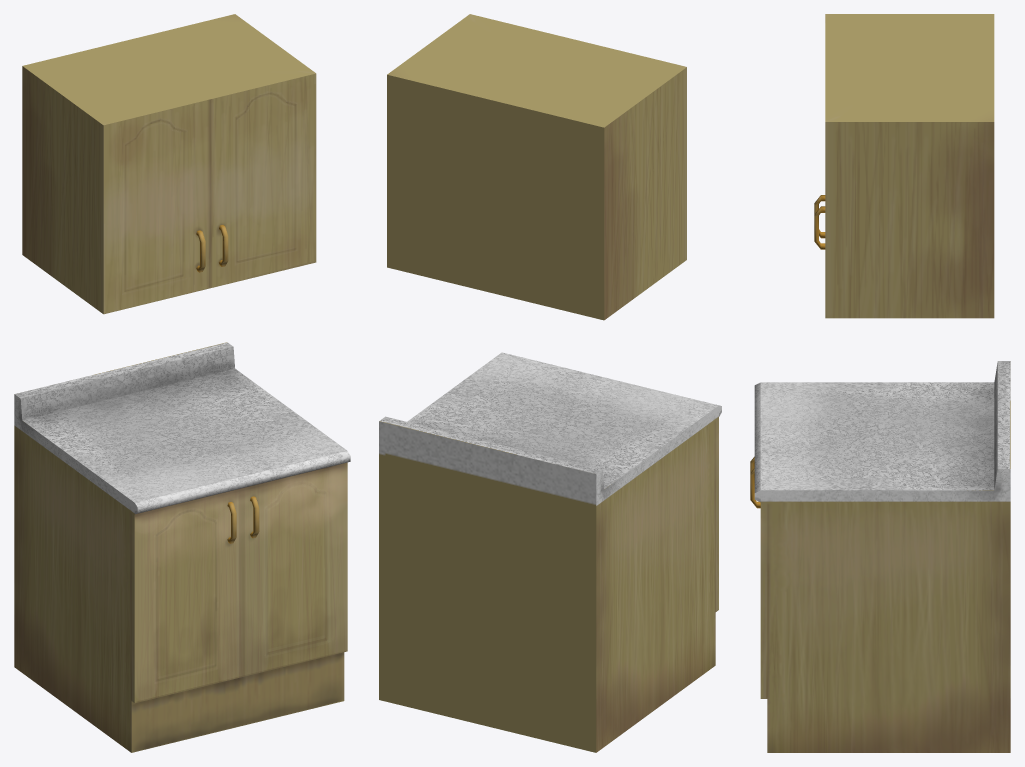
File: Counter_2_1.fbx
3 renders of one model, left to right at view 1: azimuth 30°, elevation 25°; view 2: azimuth 150°, elevation 25°; view 3: azimuth 270°, elevation 25°, orthographic. The views are drawn at different scales.
Parts seen in each view (by area): view 1: Cube, Cube.003; view 2: Cube, Cube.003; view 3: Cube, Cube.003.
Part boxes in pixels (box(x1,y1,x2,y2)): Cube: box(14, 342, 350, 752); Cube.003: box(22, 14, 316, 314); Cube: box(379, 352, 721, 752); Cube.003: box(387, 14, 686, 320); Cube: box(750, 361, 1010, 752); Cube.003: box(814, 14, 994, 318).
Size of the model in its own units: 200 by 545 by 204.
